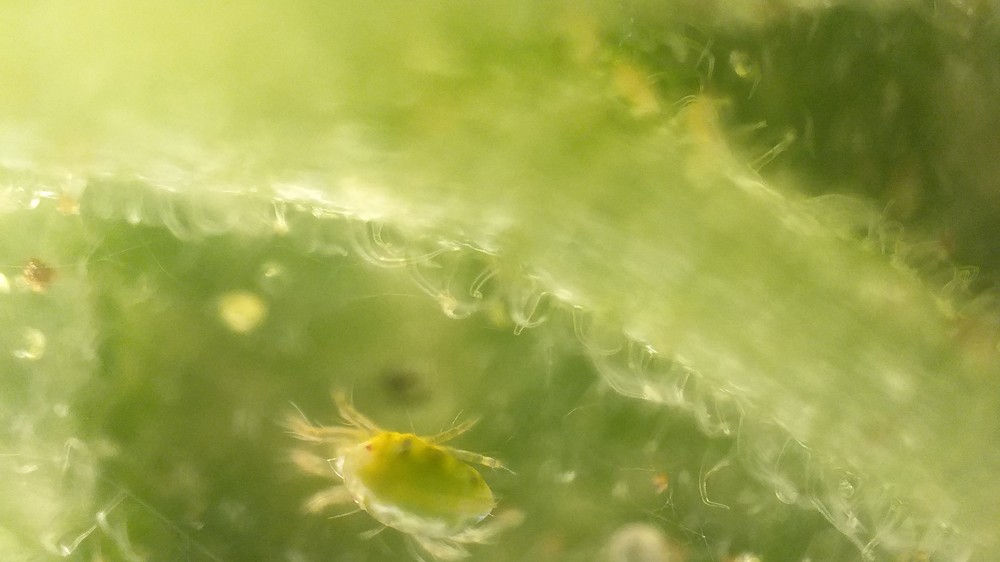Aracnido Rojo: (264, 386, 544, 558)
